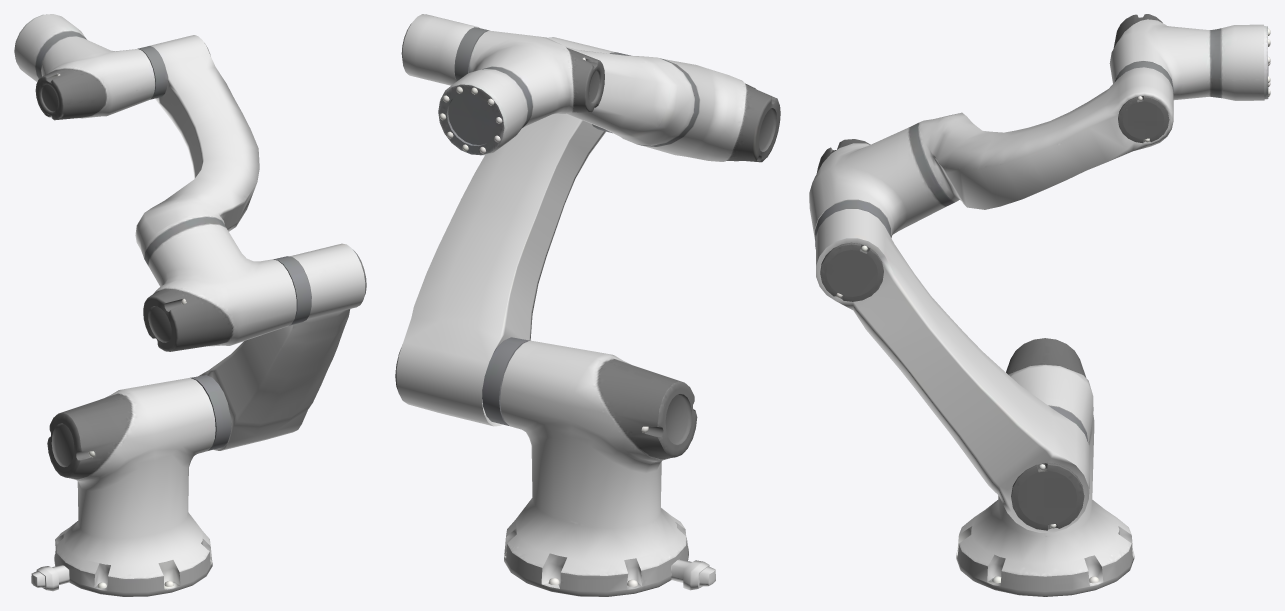
The picture shows the model from 3 angles, left to right: view 1: azimuth 30°, elevation 25°; view 2: azimuth 150°, elevation 25°; view 3: azimuth 270°, elevation 25°; orthographic projection. The views are drawn at different scales.
Parts seen in each view (by area): view 1: robolow; view 2: robolow; view 3: robolow.
Boxes of the visible parts, x1,y1,x2,y2 form: robolow: [14, 14, 366, 596]; robolow: [395, 14, 780, 596]; robolow: [809, 14, 1270, 596].
Bounding box in the file's own units: 0.7238 × 1.29 × 1.
Materials: 1 (1 with a texture image).
